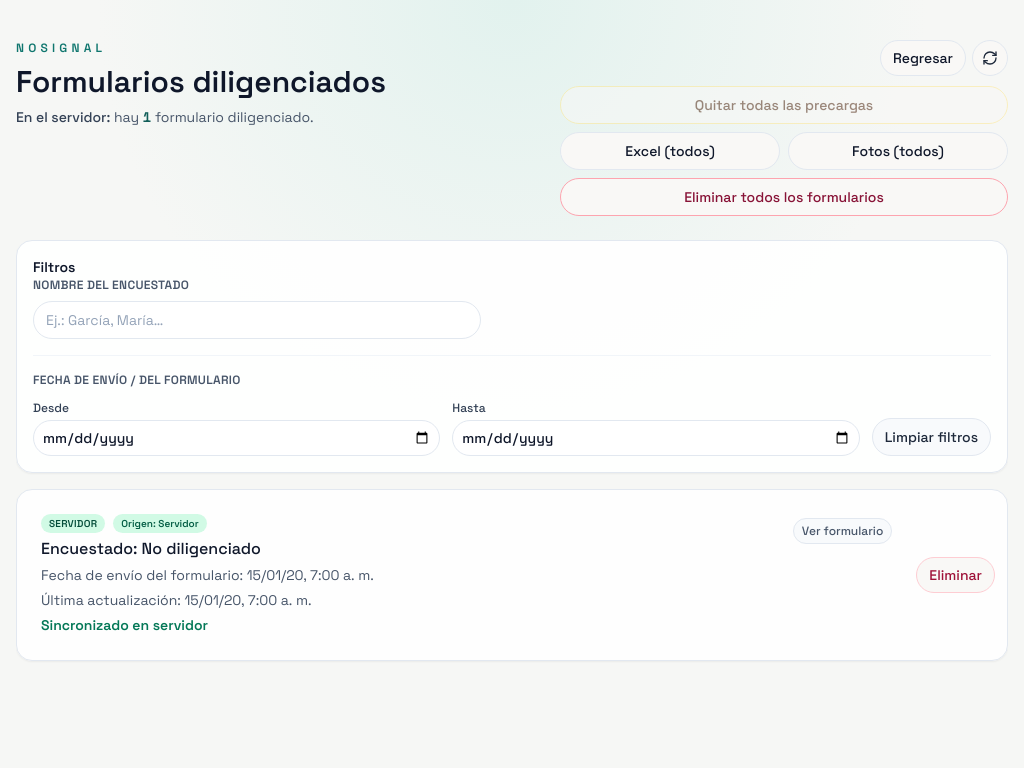
Scenario: FormulariosDiligenciadosPage — borrado masivo › muestra error de contraseña si el modal recibe una clave incorrecta
Click the button "Eliminar todos los formularios". click: (784, 197)
box: [560,178,1008,216]
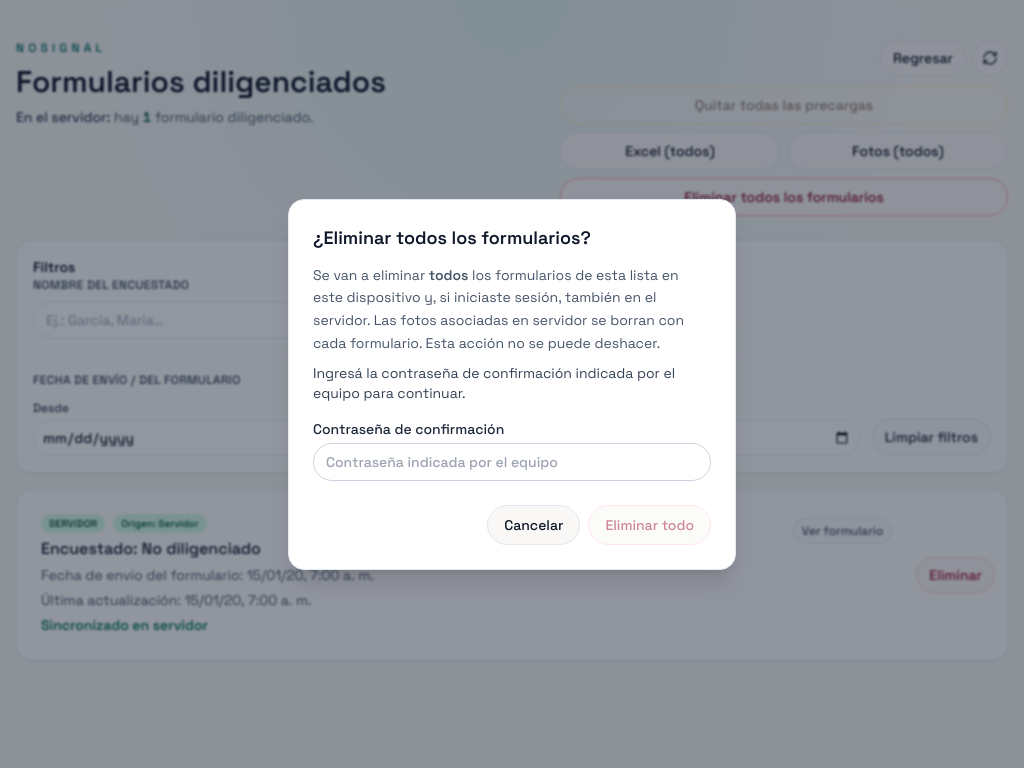
Expected: the heading "¿Eliminar todos los formularios?" is shown, [313,226,591,248]
Type "clave-incorrecta" into the password field labelled "Contraseña de confirmación". click: (512, 462)
box: [313,442,711,480]
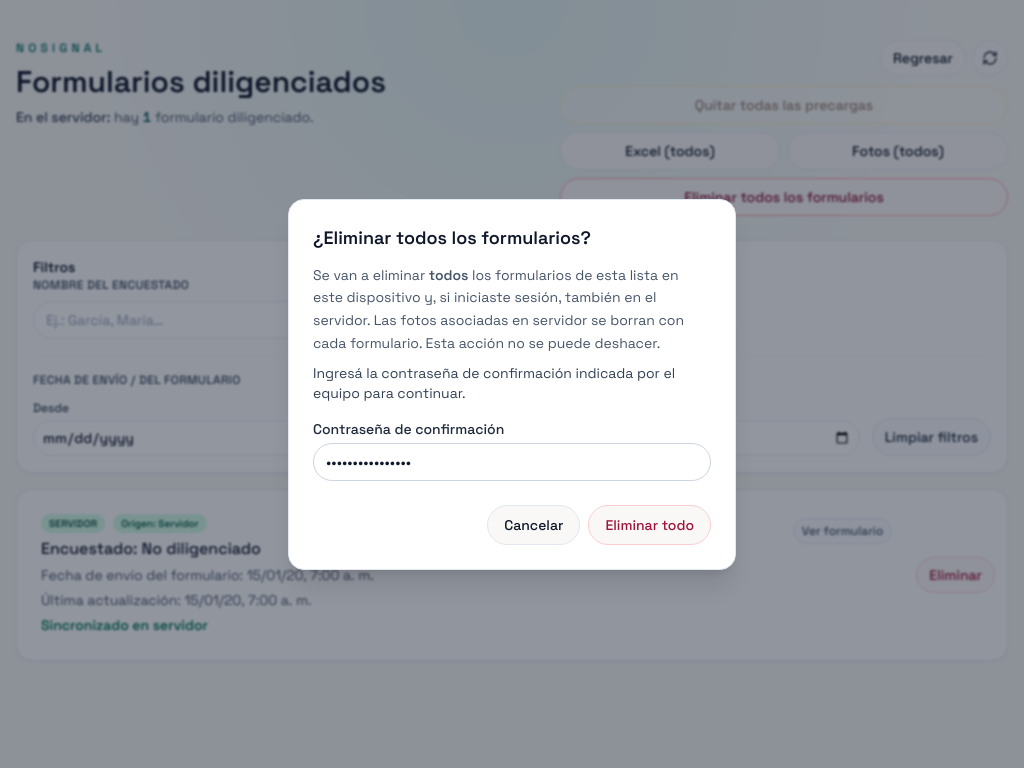
Click the button "Eliminar todo". click: (650, 524)
box: [588,504,711,544]
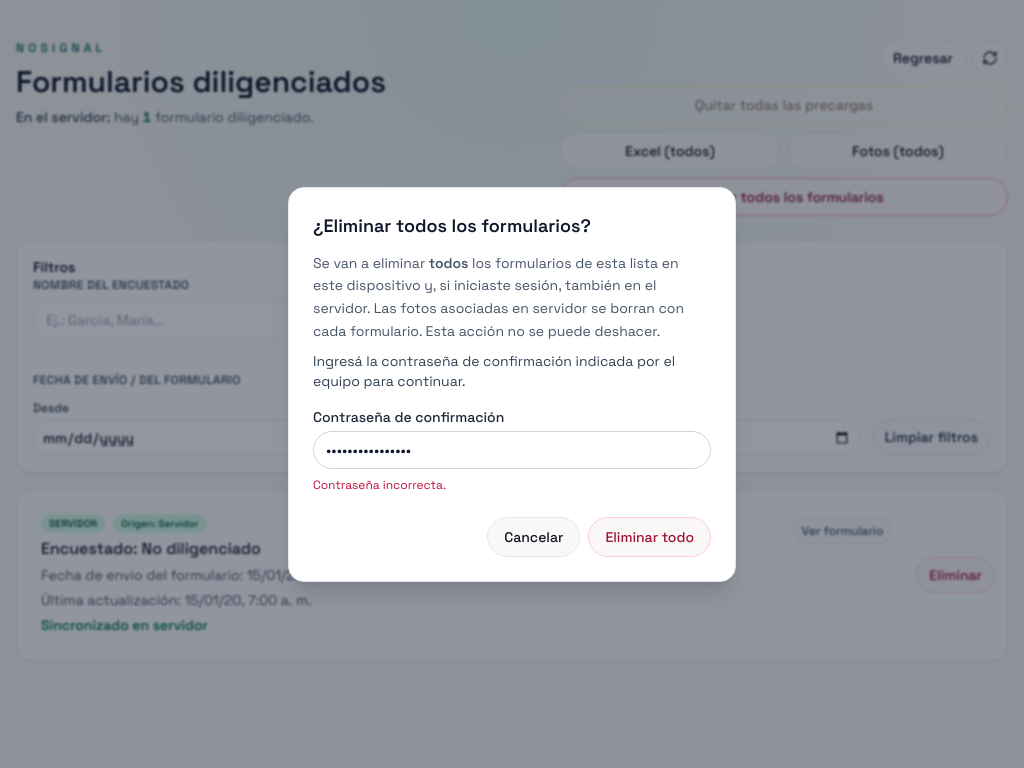
Expected: the text "Contraseña incorrecta." is shown, [313,476,446,492]
